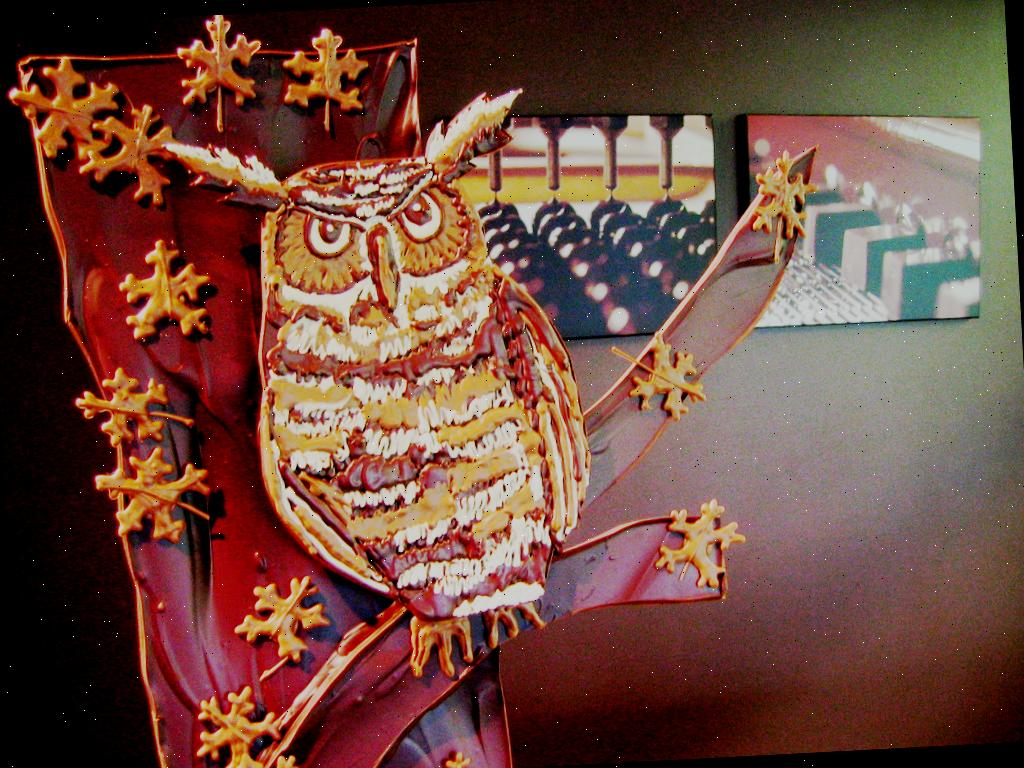Owl: (159, 84, 599, 714)
